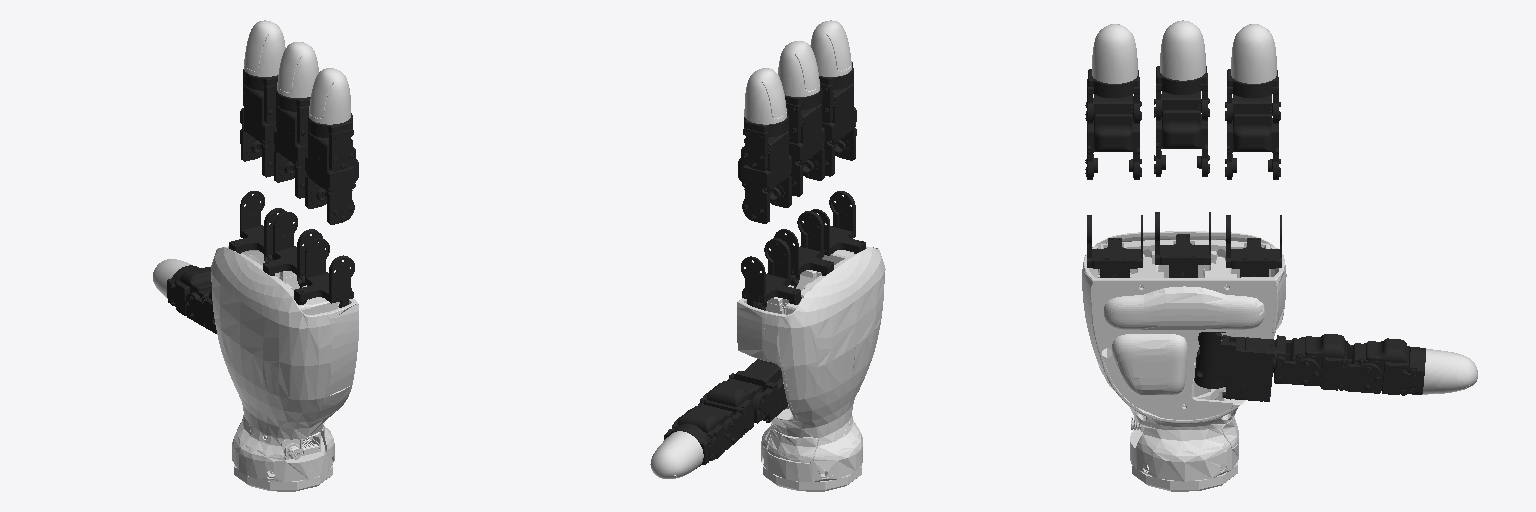
--- What the picture shows (computed from the rendered views, not written in the file) ---
The picture shows the robot from 3 angles, left to right: view 1: azimuth 30°, elevation 25°; view 2: azimuth 150°, elevation 25°; view 3: azimuth 270°, elevation 25°; orthographic projection.
Model allegro_hand_right with 35 links and 34 joints (16 revolute, 18 fixed), rooted at world, posed every joint at zero.
Visible links, largest first — view 1: palm_link, link_10_0, link_8_0, link_2_0, link_6_0, link_4_0, link_0_0, link_11_0_tip, link_7_0_tip, link_3_0_tip, link_11_0, link_15_0 (+4 smaller); view 2: palm_link, link_2_0, link_0_0, link_6_0, link_4_0, link_14_0, link_10_0, link_3_0_tip, link_15_0, link_7_0_tip, link_8_0, link_15_0_tip (+6 smaller); view 3: palm_link, link_12_0, link_14_0, link_10_0, link_6_0, link_2_0, link_15_0, link_7_0_tip, link_3_0_tip, link_11_0_tip, link_15_0_tip, link_4_0 (+6 smaller).
Link boxes in pixels (box(x1,y1,x2,y2)): palm_link: box(211, 246, 358, 491); link_10_0: box(305, 132, 358, 224); link_8_0: box(294, 238, 354, 307); link_2_0: box(240, 85, 276, 177); link_6_0: box(274, 106, 307, 198); link_4_0: box(263, 212, 322, 287); link_0_0: box(229, 191, 286, 261); link_11_0_tip: box(309, 68, 350, 124); link_7_0_tip: box(277, 42, 318, 97); link_3_0_tip: box(244, 20, 285, 76); link_11_0: box(308, 113, 354, 171); link_15_0: box(167, 265, 211, 315); palm_link: box(737, 246, 885, 491); link_2_0: box(738, 131, 791, 223); link_0_0: box(741, 238, 801, 310); link_6_0: box(789, 104, 824, 196); link_4_0: box(774, 211, 833, 287); link_14_0: box(692, 378, 762, 449); link_10_0: box(822, 83, 856, 176); link_3_0_tip: box(744, 68, 786, 124); link_15_0: box(664, 404, 733, 468); link_7_0_tip: box(778, 41, 819, 96); link_8_0: box(810, 191, 865, 255); link_15_0_tip: box(650, 431, 703, 478); palm_link: box(1082, 231, 1286, 491); link_12_0: box(1194, 332, 1276, 401); link_14_0: box(1290, 334, 1382, 393); link_10_0: box(1085, 94, 1141, 179); link_6_0: box(1154, 91, 1209, 176); link_2_0: box(1225, 94, 1280, 179); link_15_0: box(1352, 338, 1425, 395); link_7_0_tip: box(1160, 20, 1205, 80); link_3_0_tip: box(1231, 24, 1276, 83); link_11_0_tip: box(1092, 24, 1137, 83); link_15_0_tip: box(1422, 349, 1477, 394); link_4_0: box(1155, 212, 1210, 277).
Size in the robot's own frame: 0.0669 by 0.2418 by 0.3072 metres.
18 mesh visuals loaded from 10 distinct referenced files (9 binary STL); not drawn: 3 (reference not matched to a file when rendering).

The robot description file, URDF, robot "allegro_hand_right":
<?xml version="1.0" ?>
<robot name="allegro_hand_right">
  <!-- PALM -->
 <link name="world"/>
  <joint name="global" type="fixed">
        <parent link="world"/>
        <child link="palm_link"/>
        <!--<origin xyz="0 0 0.095" rpy="0 0 0"/>-->
        <origin xyz="0 0 0.0" rpy="0 0 0"/>
  </joint>
  <link name="palm_link">
    <visual>
      <geometry>
        <mesh filename="./meshes/G1.stl" scale="0.001 0.001 0.001"/>
      </geometry>
      <origin rpy="0 3.14 1.57" xyz="0.0115 -0.000 -0.1015"/>
      <material name="white">
        <color rgba=".9 .9 .9 1"/>
      </material>
    </visual>
    <collision>
      <geometry>
        <mesh filename="./meshes/G1.stl" scale="0.001 0.001 0.001"/>
      </geometry>
 <origin rpy="0 3.14 1.57" xyz="0.0115 -0.000 -0.1015"/>
    </collision>
    <inertial>
      <origin rpy="0 0 0" xyz="0 0 0.0475"/>
      <mass value="0.4154"/>
      <inertia ixx="1e-4" ixy="0.0" ixz="0.0" iyy="1e-4" iyz="0.0" izz="1e-4"/>
    </inertial>
  </link>
  <!-- ============================================================================= -->
  <!-- FINGERS -->
  <!-- RIGHT HAND due to which finger is number 0 -->
  <!-- for LEFT HAND switch the sign of the **offset_origin_y** and **finger_angle_r** parameters-->
  <!-- [LINK 0, 4, 8] -->
  <link name="link_0_0">
    <visual>
      <geometry>
        <mesh filename="./meshes/L1.stl" scale="0.001 0.001 0.001"/>
      </geometry>
      <origin rpy="1.57 0 1.57" xyz="0.0285 0.022 -0.009"/>
      <material name="black">
        <color rgba="0.2 0.2 0.2 1"/>
      </material>
    </visual>
    <collision>
      <geometry>
        <mesh filename="./meshes/L1.stl" scale="0.001 0.001 0.001"/>
      </geometry>
      <origin rpy="1.57 0 1.57" xyz="0.0285 0.022 -0.009"/>
    </collision>
    <inertial>
      <mass value="0.0176"/>
      <origin rpy="0 0 0" xyz="0 0 0"/>
      <inertia ixx="3.1948164e-06" ixy="-2.2109921e-07" ixz="-1.4133858e-09" iyy="3.0776082e-06" iyz="-1.1892615e-08" izz="3.3657083e-06"/>
    </inertial>
  </link>
  <joint name="joint_0_0" type="revolute">
    <axis xyz="1 0 0"/>
    <limit effort="15" lower="-0.3" upper="0.3" velocity="7"/>
    <parent link="palm_link"/>
    <child link="link_0_0"/>
    <origin rpy="-0 0 0" xyz="-0.00 0.0425 -0.01874"/>
    <dynamics damping="3" friction="10"/>
  </joint>
  <!-- [LINK 1, 5, 9] -->
  <link name="link_1_0">
    <visual>
      <geometry>
        <mesh filename="./meshes/L2.stl" scale="0.001 0.001 0.001"/>
      </geometry>
      <origin rpy="1.57 0 1.57" xyz="0.0285 0.022 -0.042"/>
      <material name="black"/>
    </visual>
    <collision>
      <geometry>
        <mesh filename="./meshes/L2.stl" scale="0.001 0.001 0.001"/>
      </geometry>
      <origin rpy="1.57 0 1.57" xyz="0.0285 0.022 -0.042"/>
    </collision>
    <inertial>
      <mass value="0.079"/>
      <origin rpy="0 0 0" xyz="0 0 0"/>
      <inertia ixx="1.86e-05" ixy="-4.5681875e-06" ixz="-4.2570877e-07" iyy="3.0532379e-05" iyz="-8.0656803e-08" izz="3.2717507e-05"/>
    </inertial>
  </link>
  <joint name="joint_1_0" type="revolute">
    <limit effort="15" lower="-0.1" upper="1.8" velocity="7"/>
    <axis xyz="0 1 0"/>
    <parent link="link_0_0"/>
    <child link="link_1_0"/>
    <origin xyz="0 -0.000 0.03296"/>
    <dynamics damping="3" friction="5"/>
  </joint>
  <!-- [LINK 2, 6, 10]-->
  <link name="link_2_0">
    <visual>
      <geometry>
        <mesh filename="./meshes/L3.stl" scale="0.001 0.001 0.001"/>
      </geometry>
      <origin rpy="1.57 0 1.57" xyz="0.0285 0.022 -0.085"/>
      <material name="black"/>
    </visual>
    <collision>
      <geometry>
        <mesh filename="./meshes/L3.stl" scale="0.001 0.001 0.001"/>
      </geometry>
      <origin rpy="1.57 0 1.57" xyz="0.0285 0.022 -0.085"/>
    </collision>
    <inertial>
      <mass value="0.027"/>
      <origin rpy="0 0 0" xyz="0 0 0"/>
      <inertia ixx="4.7171591e-06" ixy="-3.5564524e-07" ixz="-4.2942236e-07" iyy="8.8064583e-06" iyz="1.2741587e-08" izz="7.1425451e-06"/>
    </inertial>
  </link>
  <joint name="joint_2_0" type="revolute">
    <axis xyz="0 1 0"/>
    <limit effort="15" lower="-0.1" upper="1.86" velocity="7"/>
    <parent link="link_1_0"/>
    <child link="link_2_0"/>
    <origin xyz="0 -0.000 0.0431"/>
    <dynamics damping="3" friction="10"/>
  </joint>
  <!-- [LINK 3, 7, 11] -->
  <link name="link_3_0">
    <visual>
      <geometry>
        <mesh filename="./meshes/L4.stl" scale="0.001 0.001 0.001"/>
      </geometry>
      <origin rpy="1.57 0 1.57" xyz="0.0285 0.022 -0.123"/>
      <material name="black"/>
    </visual>
    <collision>
      <geometry>
        <mesh filename="./meshes/L4.stl" scale="0.001 0.001 0.001"/>
      </geometry>
      <origin rpy="1.57 0 1.57" xyz="0.0285 0.022 -0.123"/>
    </collision>
    <inertial>
      <mass value="0.03"/>
      <origin rpy="0 0 0" xyz="0 0 0"/>
      <inertia ixx="4.3675061e-06" ixy="5.1366961e-08" ixz="-2.0525197e-07" iyy="1.0449366e-05" iyz="7.1264004e-09" izz="8.8933194e-06"/>
    </inertial>
  </link>
  <joint name="joint_3_0" type="revolute">
    <axis xyz="0 1 0"/>
    <limit effort="15" lower="-0.1" upper="2.01" velocity="7"/>
    <parent link="link_2_0"/>
    <child link="link_3_0"/>
    <origin xyz="0 0 0.038"/>
    <dynamics damping="3" friction="10"/>
  </joint>
  <!-- [FINGER TIP] -->
  <link name="link_3_0_tip">
    <visual>
      <geometry>
        <mesh filename="./meshes/L5.stl" scale="0.001 0.001 0.001"/>
      </geometry>
       <origin rpy="1.57 0 1.57" xyz="0.0 0.0 -0.0254"/>
      <material name="white">
        <color rgba=".9 .9 .9 1"/>
      </material>
    </visual>
    <collision>
      <geometry>
        <mesh filename="./meshes/L5.stl" scale="0.001 0.001 0.001"/>
      </geometry>
       <origin rpy="1.57 0 1.57" xyz="0.0 0.0 -0.0254"/>
    </collision>
    <inertial>
      <mass value="0.0017"/>
      <origin rpy="0 0 0" xyz="0 0 0"/>
      <inertia ixx="9.68e-07" ixy="0" ixz="0" iyy="9.68e-07" iyz="0" izz="9.68e-07"/>
    </inertial>
  </link>
  <joint name="joint_3_0_tip" type="fixed">
    <parent link="link_3_0"/>
    <child link="link_3_0_tip"/>
    <origin rpy="0 0 0" xyz="0 0 0.04"/>
  </joint>
  <!-- [LINK 0, 4, 8] -->
   <link name="link_4_0">
    <visual>
      <geometry>
        <mesh filename="./meshes/L1.stl" scale="0.001 0.001 0.001"/>
      </geometry>
      <origin rpy="1.57 0 1.57" xyz="0.0285 0.022 -0.009"/>
      <material name="black">
        <color rgba="0.2 0.2 0.2 1"/>
      </material>
    </visual>
    <collision>
      <geometry>
        <mesh filename="./meshes/L1.stl" scale="0.001 0.001 0.001"/>
      </geometry>
      <origin rpy="1.57 0 1.57" xyz="0.0285 0.022 -0.009"/>
    </collision>
    <inertial>
      <mass value="0.0176"/>
      <origin rpy="0 0 0" xyz="0 0 0"/>
      <inertia ixx="3.1948164e-06" ixy="-2.2109921e-07" ixz="-1.4133858e-09" iyy="3.0776082e-06" iyz="-1.1892615e-08" izz="3.3657083e-06"/>
    </inertial>
  </link>
  <joint name="joint_4_0" type="revolute">
    <axis xyz="1 0 0"/>
    <limit effort="15" lower="-0.3" upper="0.3" velocity="7"/>
    <parent link="palm_link"/>
    <child link="link_4_0"/>
    <origin rpy="-0 0 0" xyz="-0.00 -0.0009 -0.0165"/>
    <dynamics damping="3" friction="5"/>
  </joint>
  <!-- [LINK 1, 5, 9] -->
  <link name="link_5_0">
    <visual>
      <geometry>
        <mesh filename="./meshes/L2.stl" scale="0.001 0.001 0.001"/>
      </geometry>
      <origin rpy="1.57 0 1.57" xyz="0.0285 0.022 -0.042"/>
      <material name="black"/>
    </visual>
    <collision>
      <geometry>
        <mesh filename="./meshes/L2.stl" scale="0.001 0.001 0.001"/>
      </geometry>
      <origin rpy="1.57 0 1.57" xyz="0.0285 0.022 -0.042"/>
    </collision>
    <inertial>
      <mass value="0.079"/>
      <origin rpy="0 0 0" xyz="0 0 0"/>
      <inertia ixx="1.86e-05" ixy="-4.5681875e-06" ixz="-4.2570877e-07" iyy="3.0532379e-05" iyz="-8.0656803e-08" izz="3.2717507e-05"/>
    </inertial>
  </link>
  <joint name="joint_5_0" type="revolute">
    <limit effort="15" lower="-0.1" upper="1.8" velocity="7"/>
    <axis xyz="0 1 0"/>
    <parent link="link_4_0"/>
    <child link="link_5_0"/>
    <origin xyz="0 -0.000 0.03296"/>
    <dynamics damping="7" friction="10"/>
  </joint>
  <!-- [LINK 2, 6, 10]-->
  <link name="link_6_0">
    <visual>
      <geometry>
        <mesh filename="./meshes/L3.stl" scale="0.001 0.001 0.001"/>
      </geometry>
      <origin rpy="1.57 0 1.57" xyz="0.0285 0.022 -0.085"/>
      <material name="black"/>
    </visual>
    <collision>
      <geometry>
        <mesh filename="./meshes/L3.stl" scale="0.001 0.001 0.001"/>
      </geometry>
      <origin rpy="1.57 0 1.57" xyz="0.0285 0.022 -0.085"/>
    </collision>
    <inertial>
      <mass value="0.027"/>
      <origin rpy="0 0 0" xyz="0 0 0"/>
      <inertia ixx="4.7171591e-06" ixy="-3.5564524e-07" ixz="-4.2942236e-07" iyy="8.8064583e-06" iyz="1.2741587e-08" izz="7.1425451e-06"/>
    </inertial>
  </link>
  <joint name="joint_6_0" type="revolute">
    <axis xyz="0 1 0"/>
    <limit effort="15" lower="-0.1" upper="1.86" velocity="7"/>
    <parent link="link_5_0"/>
    <child link="link_6_0"/>
    <origin xyz="0 -0.000 0.0431"/>
    <dynamics damping="3" friction="5"/>
  </joint>
  <!-- [LINK 3, 7, 11] -->
  <link name="link_7_0">
    <visual>
      <geometry>
        <mesh filename="./meshes/L4.stl" scale="0.001 0.001 0.001"/>
      </geometry>
      <origin rpy="1.57 0 1.57" xyz="0.0285 0.022 -0.123"/>
      <material name="black"/>
    </visual>
    <collision>
      <geometry>
        <mesh filename="./meshes/L4.stl" scale="0.001 0.001 0.001"/>
      </geometry>
      <origin rpy="1.57 0 1.57" xyz="0.0285 0.022 -0.123"/>
    </collision>
    <inertial>
      <mass value="0.03"/>
      <origin rpy="0 0 0" xyz="0 0 0"/>
      <inertia ixx="4.3675061e-06" ixy="5.1366961e-08" ixz="-2.0525197e-07" iyy="1.0449366e-05" iyz="7.1264004e-09" izz="8.8933194e-06"/>
    </inertial>
  </link>
  <joint name="joint_7_0" type="revolute">
    <axis xyz="0 1 0"/>
    <limit effort="15" lower="-0.1" upper="2.01" velocity="7"/>
    <parent link="link_6_0"/>
    <child link="link_7_0"/>
    <origin xyz="0 0 0.038"/>
    <dynamics damping="3" friction="5"/>
  </joint>
  <!-- [FINGER TIP] -->
  <link name="link_7_0_tip">
    <visual>
      <geometry>
        <mesh filename="./meshes/L5.stl" scale="0.001 0.001 0.001"/>
      </geometry>
       <origin rpy="1.57 0 1.57" xyz="0.0 0.0 -0.0254"/>
      <material name="white">
        <color rgba=".9 .9 .9 1"/>
      </material>
    </visual>
    <collision>
      <geometry>
        <mesh filename="./meshes/L5.stl" scale="0.001 0.001 0.001"/>
      </geometry>
       <origin rpy="1.57 0 1.57" xyz="0.0 0.0 -0.0254"/>
    </collision>
    <inertial>
      <mass value="0.0017"/>
      <origin rpy="0 0 0" xyz="0 0 0"/>
      <inertia ixx="9.68e-07" ixy="0" ixz="0" iyy="9.68e-07" iyz="0" izz="9.68e-07"/>
    </inertial>
  </link>
  <joint name="joint_7_0_tip" type="fixed">
    <parent link="link_7_0"/>
    <child link="link_7_0_tip"/>
    <origin rpy="0 0 0" xyz="0 0 0.04"/>
  </joint>
  <!-- [LINK 0, 4, 8] -->
  <link name="link_8_0">
    <visual>
      <geometry>
        <mesh filename="./meshes/L1.stl" scale="0.001 0.001 0.001"/>
      </geometry>
      <origin rpy="1.57 0 1.57" xyz="0.0285 0.022 -0.009"/>
      <material name="black">
        <color rgba="0.2 0.2 0.2 1"/>
      </material>
    </visual>
    <collision>
      <geometry>
        <mesh filename="./meshes/L1.stl" scale="0.001 0.001 0.001"/>
      </geometry>
      <origin rpy="1.57 0 1.57" xyz="0.0285 0.022 -0.009"/>
    </collision>
    <inertial>
      <mass value="0.0176"/>
      <origin rpy="0 0 0" xyz="0 0 0"/>
      <inertia ixx="3.1948164e-06" ixy="-2.2109921e-07" ixz="-1.4133858e-09" iyy="3.0776082e-06" iyz="-1.1892615e-08" izz="3.3657083e-06"/>
    </inertial>
  </link>
  <joint name="joint_8_0" type="revolute">
    <axis xyz="1 0 0"/>
    <limit effort="15" lower="-0.3" upper="0.3" velocity="7"/>
    <parent link="palm_link"/>
    <child link="link_8_0"/>
    <origin rpy="-0 0 0" xyz="-0.00 -0.0425 -0.01874"/>
    <dynamics damping="3" friction="5"/>
  </joint>
  <!-- [LINK 1, 5, 9] -->
  <link name="link_9_0">
    <visual>
      <geometry>
        <mesh filename="./meshes/L2.stl" scale="0.001 0.001 0.001"/>
      </geometry>
      <origin rpy="1.57 0 1.57" xyz="0.0285 0.022 -0.042"/>
      <material name="black"/>
    </visual>
    <collision>
      <geometry>
        <mesh filename="./meshes/L2.stl" scale="0.001 0.001 0.001"/>
      </geometry>
      <origin rpy="1.57 0 1.57" xyz="0.0285 0.022 -0.042"/>
    </collision>
    <inertial>
      <mass value="0.079"/>
      <origin rpy="0 0 0" xyz="0 0 0"/>
      <inertia ixx="1.86e-05" ixy="-4.5681875e-06" ixz="-4.2570877e-07" iyy="3.0532379e-05" iyz="-8.0656803e-08" izz="3.2717507e-05"/>
    </inertial>
  </link>
  <joint name="joint_9_0" type="revolute">
    <limit effort="15" lower="-0.1" upper="1.8" velocity="7"/>
    <axis xyz="0 1 0"/>
    <parent link="link_8_0"/>
    <child link="link_9_0"/>
    <origin xyz="0 -0.000 0.03296"/>
    <dynamics damping="7" friction="10"/>
  </joint>
  <!-- [LINK 2, 6, 10]-->
  <link name="link_10_0">
    <visual>
      <geometry>
        <mesh filename="./meshes/L3.stl" scale="0.001 0.001 0.001"/>
      </geometry>
      <origin rpy="1.57 0 1.57" xyz="0.0285 0.022 -0.085"/>
      <material name="black"/>
    </visual>
    <collision>
      <geometry>
        <mesh filename="./meshes/L3.stl" scale="0.001 0.001 0.001"/>
      </geometry>
      <origin rpy="1.57 0 1.57" xyz="0.0285 0.022 -0.085"/>
    </collision>
    <inertial>
      <mass value="0.027"/>
      <origin rpy="0 0 0" xyz="0 0 0"/>
      <inertia ixx="4.7171591e-06" ixy="-3.5564524e-07" ixz="-4.2942236e-07" iyy="8.8064583e-06" iyz="1.2741587e-08" izz="7.1425451e-06"/>
    </inertial>
  </link>
  <joint name="joint_10_0" type="revolute">
    <axis xyz="0 1 0"/>
    <limit effort="15" lower="-0.1" upper="1.86" velocity="7"/>
    <parent link="link_9_0"/>
    <child link="link_10_0"/>
    <origin xyz="0 -0.000 0.0431"/>
    <dynamics damping="3" friction="5"/>
  </joint>
  <!-- [LINK 3, 7, 11] -->
  <link name="link_11_0">
    <visual>
      <geometry>
        <mesh filename="./meshes/L4.stl" scale="0.001 0.001 0.001"/>
      </geometry>
      <origin rpy="1.57 0 1.57" xyz="0.0285 0.022 -0.123"/>
      <material name="black"/>
    </visual>
    <collision>
      <geometry>
        <mesh filename="./meshes/L4.stl" scale="0.001 0.001 0.001"/>
      </geometry>
      <origin rpy="1.57 0 1.57" xyz="0.0285 0.022 -0.123"/>
    </collision>
    <inertial>
      <mass value="0.03"/>
      <origin rpy="0 0 0" xyz="0 0 0"/>
      <inertia ixx="4.3675061e-06" ixy="5.1366961e-08" ixz="-2.0525197e-07" iyy="1.0449366e-05" iyz="7.1264004e-09" izz="8.8933194e-06"/>
    </inertial>
  </link>
  <joint name="joint_11_0" type="revolute">
    <axis xyz="0 1 0"/>
    <limit effort="15" lower="-0.1" upper="2.01" velocity="7"/>
    <parent link="link_10_0"/>
    <child link="link_11_0"/>
    <origin xyz="0 0 0.038"/>
    <dynamics damping="10" friction="12"/>
  </joint>
  <!-- [FINGER TIP] -->
  <link name="link_11_0_tip">
    <visual>
      <geometry>
        <mesh filename="./meshes/L5.stl" scale="0.001 0.001 0.001"/>
      </geometry>
       <origin rpy="1.57 0 1.57" xyz="0.0 0.0 -0.0254"/>
      <material name="white">
        <color rgba=".9 .9 .9 1"/>
      </material>
    </visual>
    <collision>
      <geometry>
        <mesh filename="./meshes/L5.stl" scale="0.001 0.001 0.001"/>
      </geometry>
       <origin rpy="1.57 0 1.57" xyz="0.0 0.0 -0.0254"/>
    </collision>
    <inertial>
      <mass value="0.0017"/>
      <origin rpy="0 0 0" xyz="0 0 0"/>
      <inertia ixx="9.68e-07" ixy="0" ixz="0" iyy="9.68e-07" iyz="0" izz="9.68e-07"/>
    </inertial>
  </link>
  <joint name="joint_11_0_tip" type="fixed">
    <parent link="link_11_0"/>
    <child link="link_11_0_tip"/>
    <origin rpy="0 0 0" xyz="0 0 0.04"/>
  </joint>
  <!-- THUMB -->
  <!-- [LINK 12] -->
  <link name="link_12_0">
    <visual>
      <geometry>
        <mesh filename="./meshes/T1.stl" scale="0.001 0.001 0.001"/>
      </geometry>
      <origin rpy="3.14 3.14 3.14" xyz="0.0342 -0.0185 0.168"/>
      <material name="black">
        <color rgba=".2 .2 .2 1"/>
      </material>
    </visual>
    <collision>
      <geometry>
        <mesh filename="./meshes/T1.stl" scale="0.001 0.001 0.001"/>
      </geometry>
      <origin rpy="3.14 3.14 3.14" xyz="0.0342 -0.0185 0.168"/>
    </collision>
    <inertial>
      <mass value="0.036"/>
      <origin rpy="0 0 0" xyz="0 0 0"/>
      <inertia ixx="1.3737858e-5" ixy="-3.3206834e-08" ixz="6.9674399e-08" iyy="7.5371421e-06" iyz="1.7150591e-06" izz="8.8689798e-06"/>
    </inertial>
  </link>
  <joint name="joint_12_0" type="revolute">
    <axis xyz="-1 0 0"/>
    <limit effort="15" lower="0.00" upper="1.78" velocity="7"/>
    <parent link="palm_link"/>
    <child link="link_12_0"/>
    <origin rpy="0 -1.65806278845 -1.5707963259" xyz="0.001 0.01776 -0.06928"/>
    <dynamics damping="3" friction="10"/>
  </joint>
  <!-- [LINK 13] -->
  <link name="link_13_0">
    <visual>
      <geometry>
        <mesh filename="./meshes/T2.stl" scale="0.001 0.001 0.001"/>
      </geometry>
      <origin rpy="3.14 3.14 3.14" xyz="0.0342 -0.0185 0.11198"/>
      <material name="black">
        <color rgba=".2 .2 .2 1"/>
      </material>
    </visual>
    <collision>
      <geometry>
        <mesh filename="./meshes/T2.stl" scale="0.001 0.001 0.001"/>
      </geometry>
      <origin rpy="3.14 3.14 3.14" xyz="0.0342 -0.0185 0.11198"/>
    </collision>
    <inertial>
      <mass value="0.021"/>
      <origin rpy="0 0 0" xyz="0 0 0"/>
      <inertia ixx="7.3055663e-06" ixy="-9.9122261e-09" ixz="2.4501201e-09" iyy="9.3430420e-06" iyz="-7.2300277e-08" izz="3.1857199e-06"/>
    </inertial>
  </link>
  <joint name="joint_13_0" type="revolute">
    <axis xyz="0 0 1"/>
       <limit effort="15" lower="-0.26" upper="1.78" velocity="7"/>
    <parent link="link_12_0"/>
    <child link="link_13_0"/>
    <origin xyz="0.00 0.00 0.0565"/>
    <dynamics damping="3" friction="5"/>
  </joint>
  <!-- [LINK 14] -->
  <link name="link_14_0">
    <visual>
      <geometry>
        <mesh filename="./meshes/T3.stl" scale="0.001 0.001 0.001"/>
      </geometry>
      <origin rpy="3.14 3.14 3.14" xyz="0.0342 -0.0185 0.11198"/>
      <material name="black">
      </material>
    </visual>
    <collision>
      <geometry>
        <mesh filename="./meshes/T3.stl" scale="0.001 0.001 0.001"/>
      </geometry>
      <origin rpy="3.14 3.14 3.14" xyz="0.0342 -0.0185 0.11198"/>
    </collision>
    <inertial>
      <mass value="0.0386"/>
      <origin rpy="0 0 0" xyz="0 0 0"/>
      <inertia ixx="5.2870099e-06" ixy="9.7830545e-07" ixz="-3.1022447e-07" iyy="7.8448238e-06" iyz="4.2688211e-08" izz="9.6082077e-06"/>
    </inertial>
  </link>
  <joint name="joint_14_0" type="revolute">
    <axis xyz="0 1 0"/>
    <!--<limit effort="15" lower="-0.54" upper="1.53" velocity="7"/>-->
           <limit effort="15" lower="-0.05" upper="1.85" velocity="7"/>
    <parent link="link_13_0"/>
    <child link="link_14_0"/>
    <origin xyz="0 0 0.00"/>
    <dynamics damping="3" friction="10"/>
  </joint>
  <!-- [LINK 15] -->
  <link name="link_15_0">
    <visual>
      <geometry>
         <mesh filename="./meshes/T4.stl" scale="0.001 0.001 0.001"/>
      </geometry>
      <origin rpy="3.14 3.14 3.14" xyz="0.0342 -0.0185 0.0738"/>
      <material name="black">
      </material>
    </visual>
    <collision>
      <geometry>
         <mesh filename="./meshes/T4.stl" scale="0.001 0.001 0.001"/>
      </geometry>
      <origin rpy="3.14 3.14 3.14" xyz="0.0342 -0.0185 0.0738"/>
    </collision>
    <inertial>
      <mass value="0.0575"/>
      <origin rpy="0 0 0" xyz="0 0 0"/>
      <inertia ixx="6.8294330e-06" ixy="6.9938090e-07" ixz="-7.7896092e-07" iyy="2.1780151e-05" iyz="3.1068324e-08" izz="2.2921014e-05"/>
    </inertial>
  </link>
  <joint name="joint_15_0" type="revolute">
    <axis xyz="0 1 0"/>
    <limit effort="15" lower="-0.09" upper="1.80" velocity="7"/>
    <parent link="link_14_0"/>
    <child link="link_15_0"/>
    <origin xyz="0 0 0.038"/>
    <dynamics damping="3" friction="12"/>
  </joint>
  <!-- [FINGER TIP] -->
  <link name="link_15_0_tip">
    <visual>
      <geometry>
        <mesh filename="./meshes/L5.stl" scale="0.001 0.001 0.001"/>
      </geometry>
      <origin rpy="4.71 3.14 4.71" xyz="-0.0 0.0 -0.02494"/>
      <material name="white">
        <color rgba=".9 .9 .9 1"/>
      </material>
    </visual>
    <collision>
      <geometry>
        <mesh filename="./meshes/L5.stl" scale="0.001 0.001 0.001"/>
      </geometry>
      <origin rpy="4.71 3.14 4.71" xyz="-0.0 0.0 -0.02494"/>
    </collision>
    <inertial>
      <mass value="0.0014"/>
      <origin rpy="0 0 0" xyz="0 0 0"/>
      <inertia ixx="9.68e-07" ixy="0" ixz="0" iyy="9.68e-07" iyz="0" izz="9.68e-07"/>
    </inertial>
  </link>
  <joint name="joint_15_0_tip" type="fixed">
    <parent link="link_15_0"/>
    <child link="link_15_0_tip"/>
    <origin rpy="0 0 0" xyz="0 0 0.05"/>
  </joint>
  <!-- ============================================================================= -->
  <!-- THUMB MACRO -->
  <!-- END THUMB MACRO -->
  <!-- THREE FINGER MACRO -->
  <!-- [[END]] THREE FINGER MACRO -->

  <!-- SENSORS -->
  <link name="link_sensor_0_0">
  </link>
    <joint name="sensor_0_0" type="fixed">
    <parent link="link_1_0"/>
    <child link="link_sensor_0_0"/>
    <origin rpy="-0 0 0" xyz="-0.00 0.00 0.001"/>
  </joint> 

  <link name="link_sensor_1_0">
  </link>
    <joint name="sensor_1_0" type="fixed">
    <parent link="link_1_0"/>
    <child link="link_sensor_1_0"/>
    <origin rpy="-0 0 0" xyz="-0.00 0.00 0.027"/>
  </joint>

  <link name="link_sensor_2_0">
  </link>
    <joint name="sensor_2_0" type="fixed">
    <parent link="link_2_0"/>
    <child link="link_sensor_2_0"/>
    <origin rpy="-0 0 0" xyz="-0.00 0.00 0.023"/>
  </joint>

  <link name="link_sensor_3_0">
  </link>
    <joint name="sensor_3_0" type="fixed">
    <parent link="link_5_0"/>
    <child link="link_sensor_3_0"/>
    <origin rpy="-0 0 0" xyz="-0.00 0.00 0.001"/>
  </joint> 

  <link name="link_sensor_4_0">
  </link>
    <joint name="sensor_4_0" type="fixed">
    <parent link="link_5_0"/>
    <child link="link_sensor_4_0"/>
    <origin rpy="-0 0 0" xyz="-0.00 0.00 0.027"/>
  </joint>

  <link name="link_sensor_5_0">
  </link>
    <joint name="sensor_5_0" type="fixed">
    <parent link="link_6_0"/>
    <child link="link_sensor_5_0"/>
    <origin rpy="-0 0 0" xyz="-0.00 0.00 0.023"/>
  </joint>

  <link name="link_sensor_6_0">
  </link>
    <joint name="sensor_6_0" type="fixed">
    <parent link="link_9_0"/>
    <child link="link_sensor_6_0"/>
    <origin rpy="-0 0 0" xyz="-0.00 0.00 0.001"/>
  </joint> 

  <link name="link_sensor_7_0">
  </link>
    <joint name="sensor_7_0" type="fixed">
    <parent link="link_9_0"/>
    <child link="link_sensor_7_0"/>
    <origin rpy="-0 0 0" xyz="-0.00 0.00 0.027"/>
  </joint>

  <link name="link_sensor_8_0">
  </link>
    <joint name="sensor_8_0" type="fixed">
    <parent link="link_10_0"/>
    <child link="link_sensor_8_0"/>
    <origin rpy="-0 0 0" xyz="-0.00 0.00 0.023"/>
  </joint>

  <link name="link_sensor_9_0">
  </link>
    <joint name="sensor_9_0" type="fixed">
    <parent link="link_14_0"/>
    <child link="link_sensor_9_0"/>
    <origin rpy="-0 0 0" xyz="-0.00 0.00 0.016"/>
  </joint>

  <link name="link_sensor_10_0">
  </link>
    <joint name="sensor_10_0" type="fixed">
    <parent link="link_15_0"/>
    <child link="link_sensor_10_0"/>
    <origin rpy="-0 0 0" xyz="-0.00 0.00 0.015"/>
  </joint> 

  <link name="link_sensor_palm_0">
  </link>
    <joint name="sensor_palm_0" type="fixed">
    <parent link="palm_link"/>
    <child link="link_sensor_palm_0"/>
    <origin rpy="-0 0 0" xyz="-0.00 0.00 -0.03"/>
  </joint>


  <link name="link_sensor_palm_1">
  </link>
    <joint name="sensor_palm_1" type="fixed">
    <parent link="palm_link"/>
    <child link="link_sensor_palm_1"/>
    <origin rpy="-0 0 0" xyz="-0.0 -0.02 -0.07"/>
  </joint> 
  <!-- [[END]] SENSORS -->
</robot>
